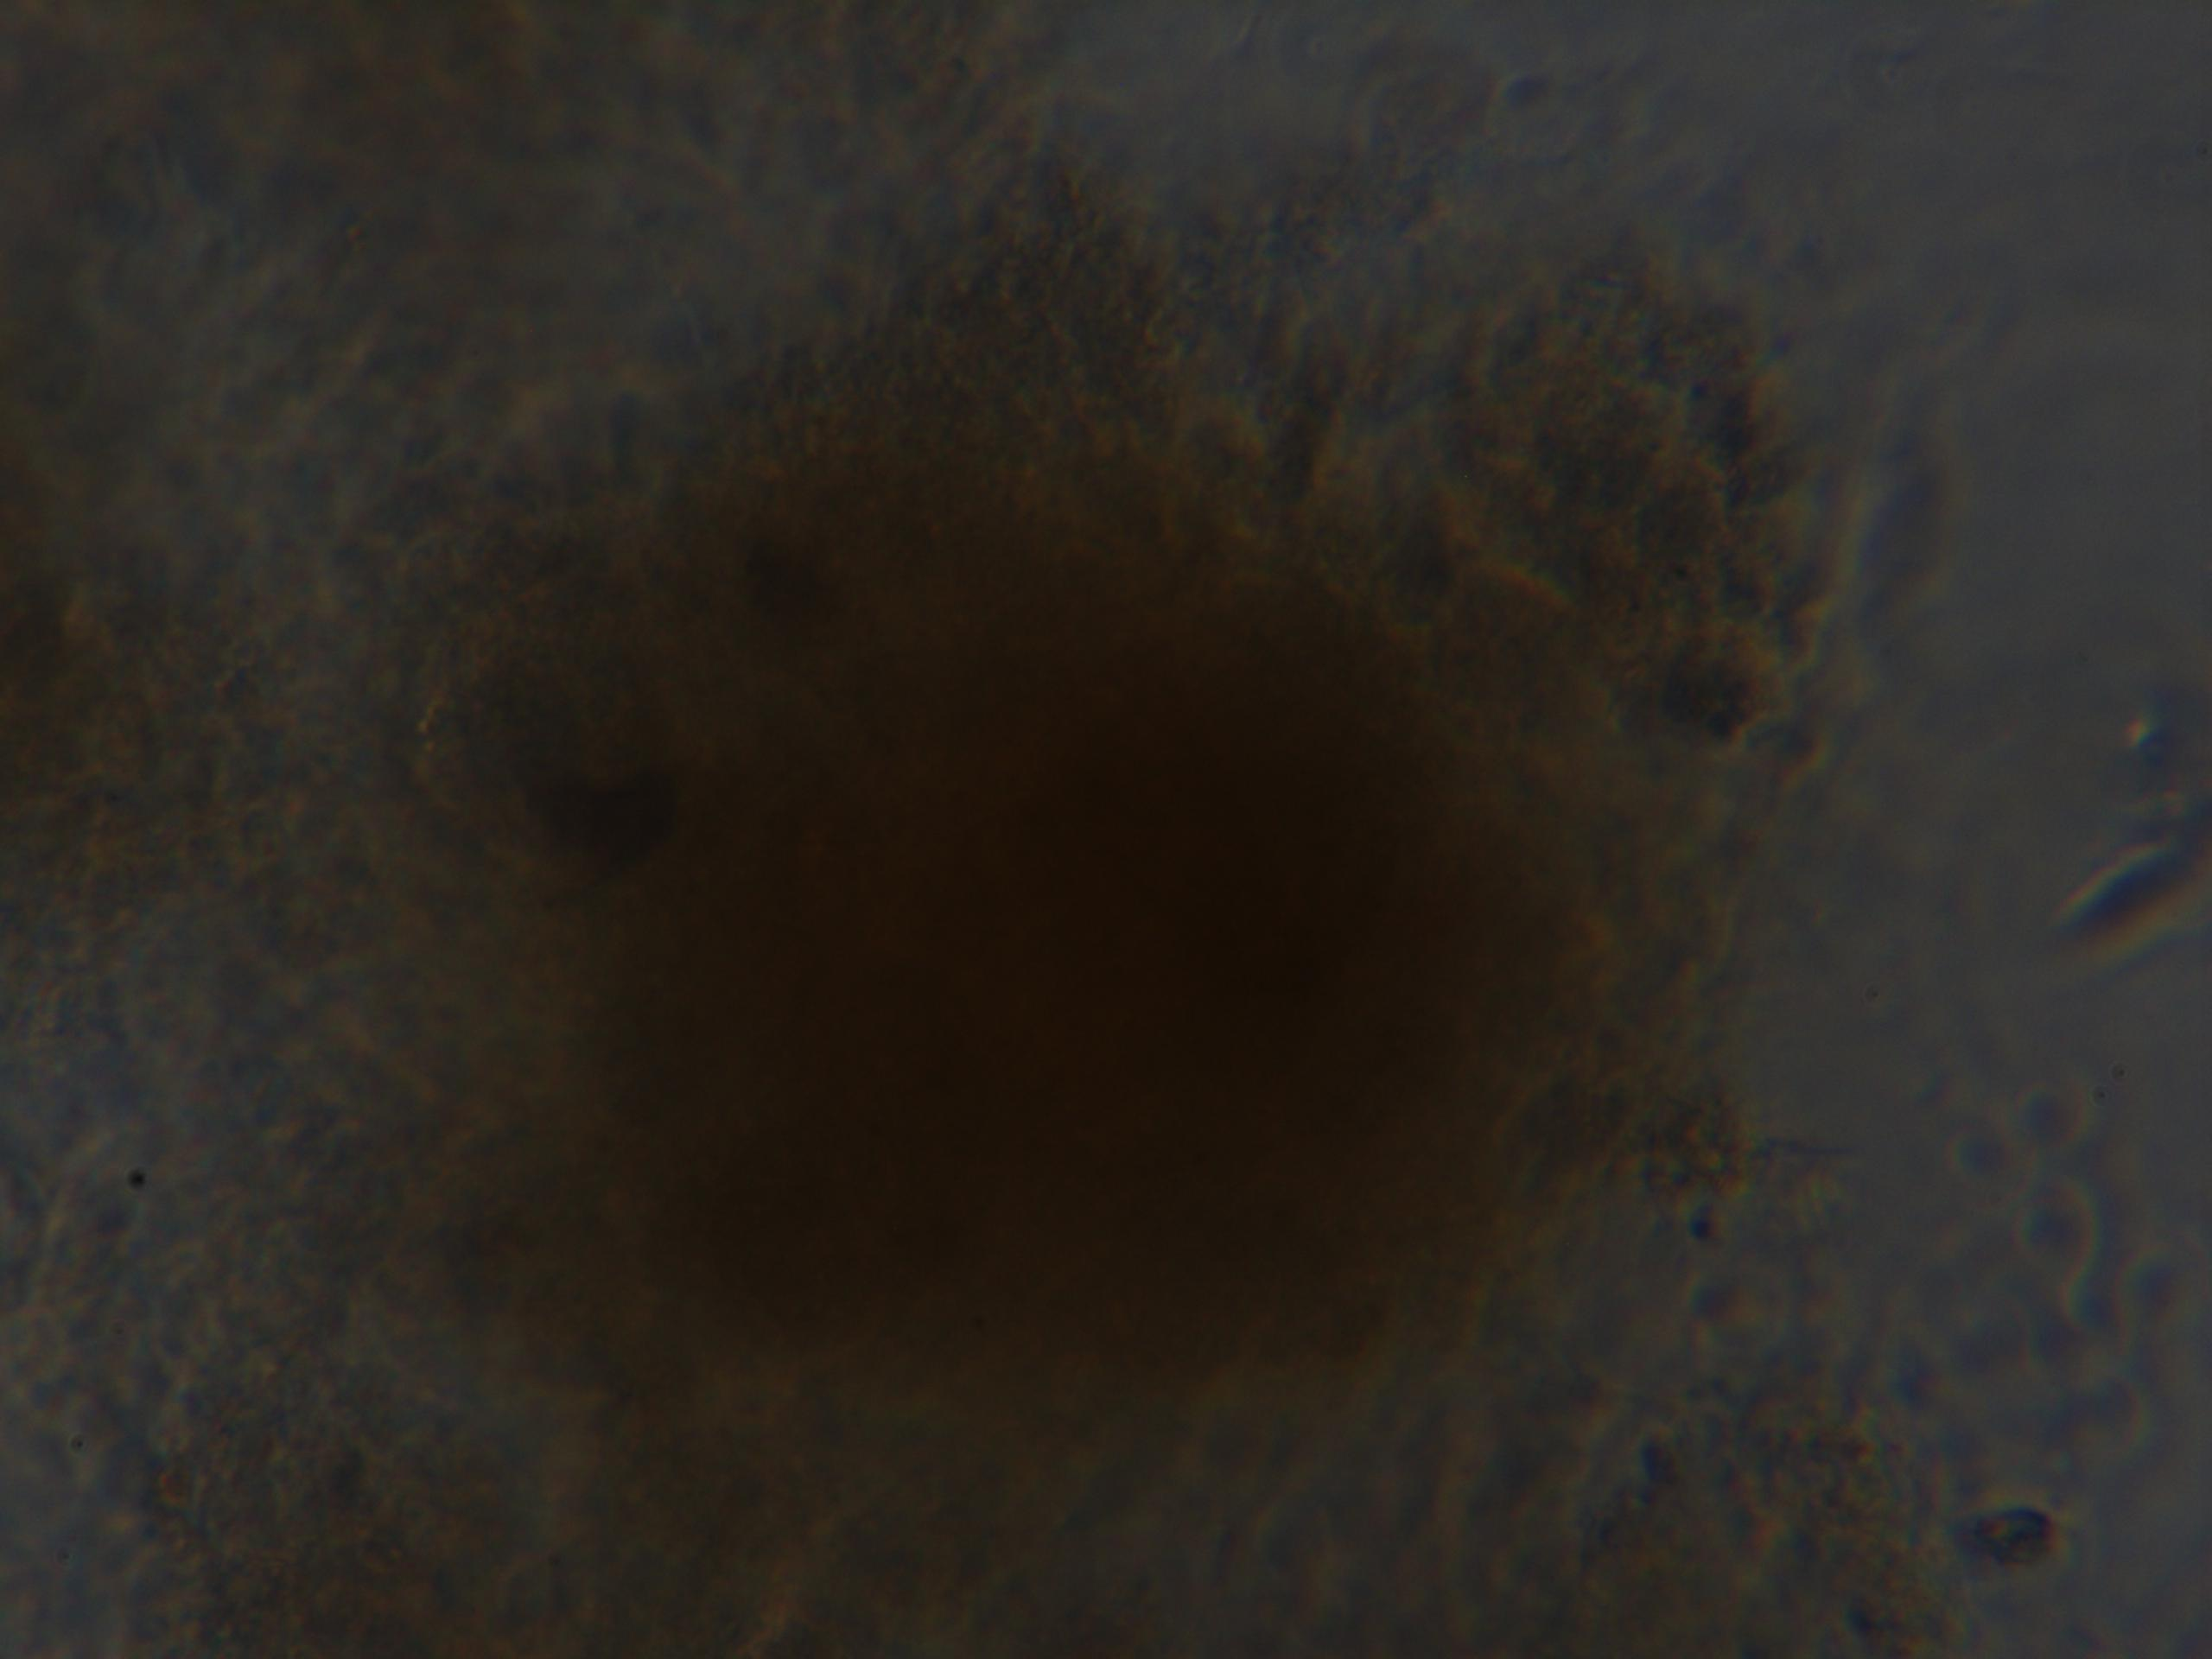spherical_floc: (394, 265, 1761, 1473)
